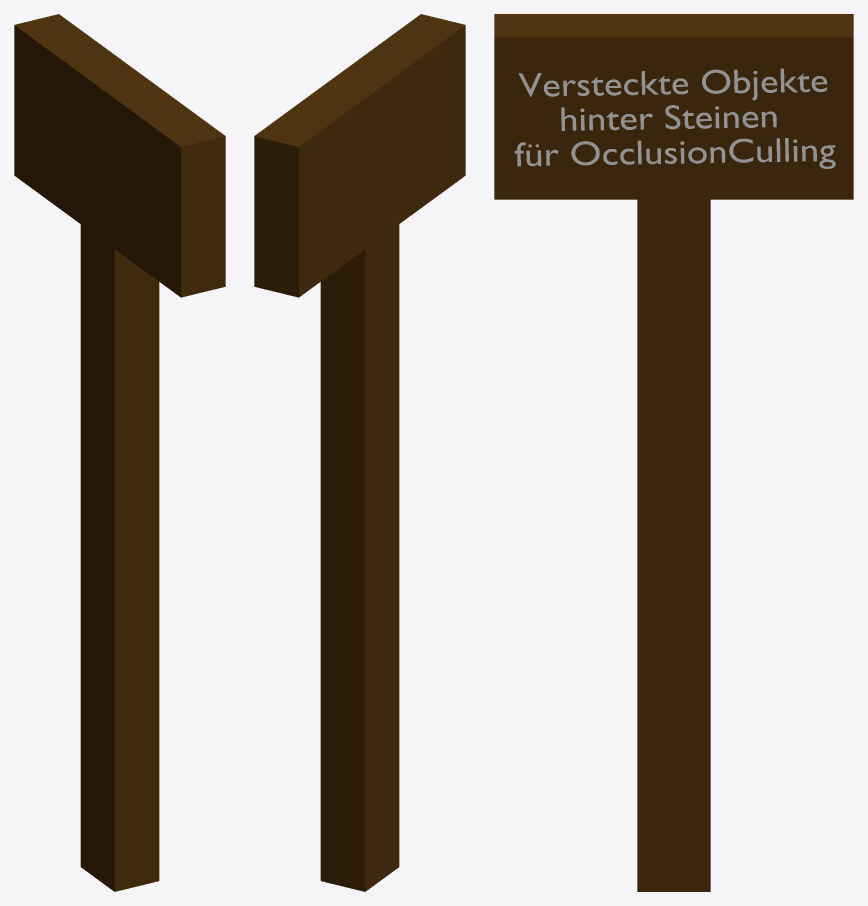
The model's file is SteineOcclusionCulling_Schild.fbx.
3 renders of one model, left to right at view 1: azimuth 30°, elevation 25°; view 2: azimuth 150°, elevation 25°; view 3: azimuth 270°, elevation 25°, orthographic. The views are drawn at different scales.
Visible parts, largest first — view 1: Cube, Cube.001; view 2: Cube, Cube.001; view 3: Cube.001, Cube, Text.
Boxes of the visible parts, x1,y1,x2,y2 form: Cube: (80, 218, 159, 891); Cube.001: (14, 14, 225, 297); Cube: (320, 218, 399, 891); Cube.001: (254, 14, 465, 297); Cube.001: (494, 14, 853, 199); Cube: (637, 192, 710, 891); Text: (514, 68, 835, 168).
Size of the model in its own units: 75.96 by 1119 by 427.
